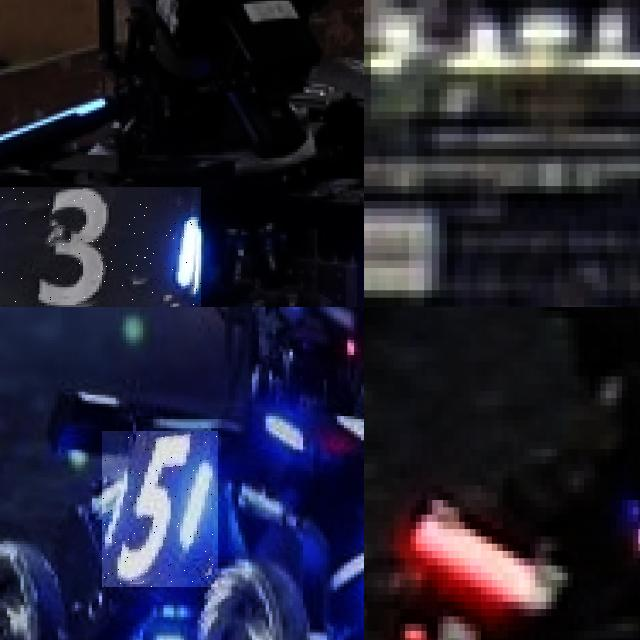B3: (0, 187, 201, 307)
B5: (102, 431, 218, 587)
R5: (388, 602, 502, 640)
